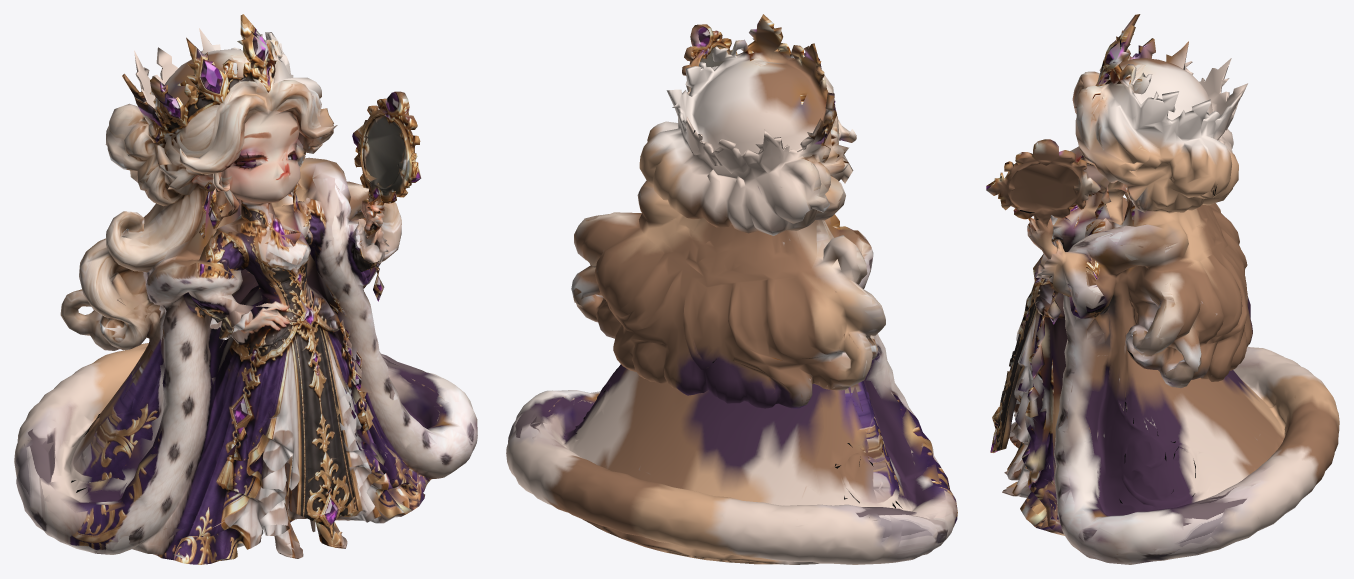
Rendered from original.glb.
The picture shows the model from 3 angles, left to right: view 1: azimuth 30°, elevation 25°; view 2: azimuth 150°, elevation 25°; view 3: azimuth 270°, elevation 25°; orthographic projection. The views are drawn at different scales.
Visible parts, largest first — view 1: Body; view 2: Body; view 3: Body.
Part boxes in pixels (x1,y1,x2,y2): Body: (14, 14, 477, 564); Body: (506, 14, 957, 564); Body: (986, 14, 1339, 564).
Bounding box in the file's own units: 0.8994 × 1 × 0.7054.
2 materials, 2 textured.
